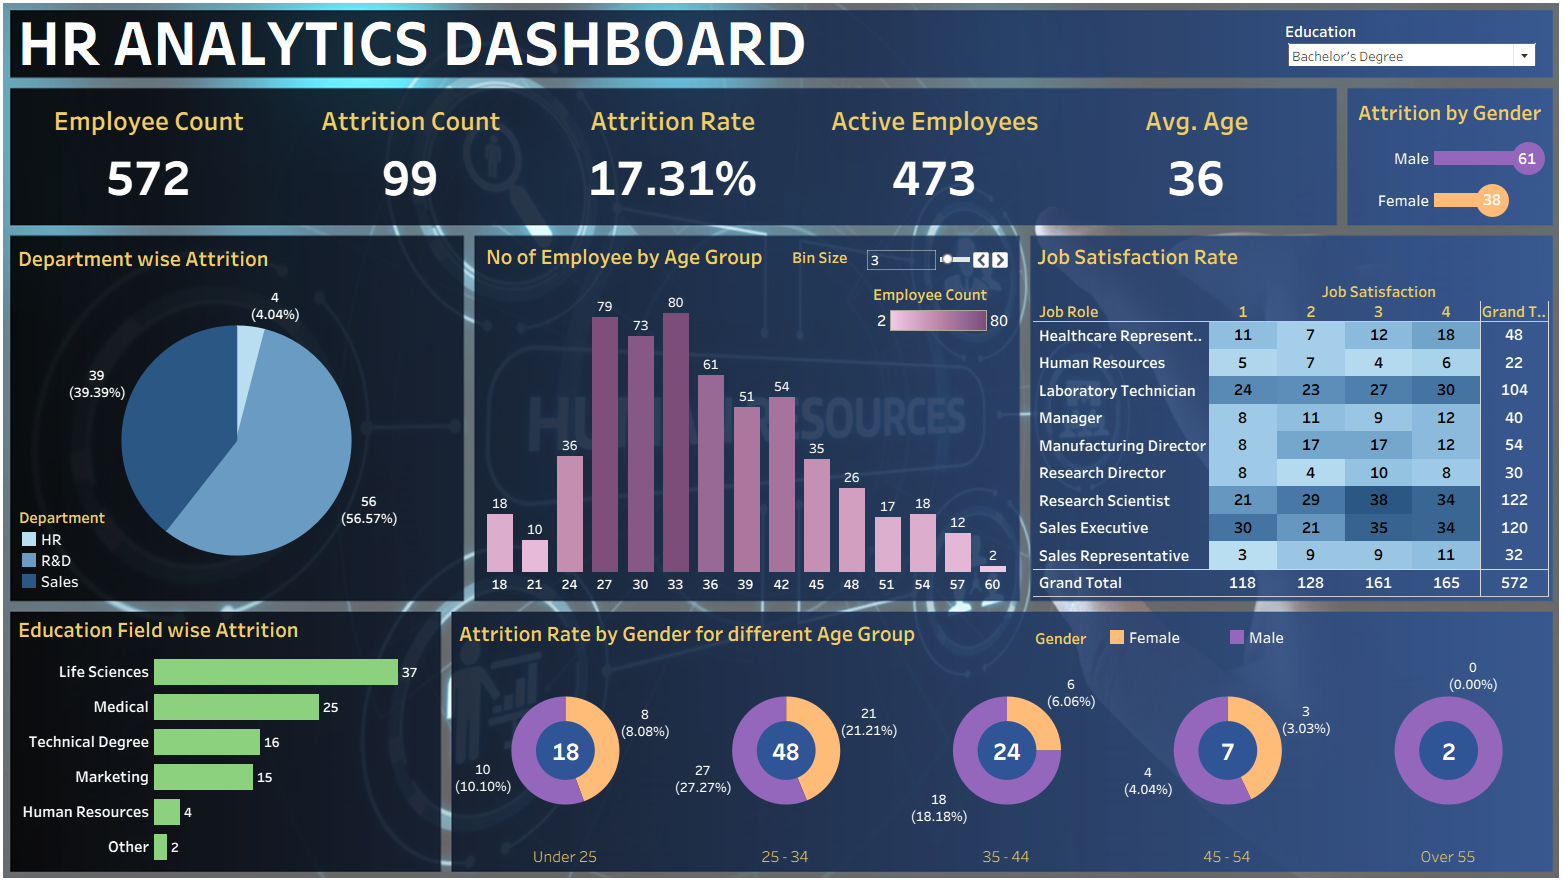

What the dashboard file says about the page in this screenshot:
{"tool":"tableau","page":{"name":"HR ANALYTICS DASHBOARD","canvas":[1580,900],"ordinal":0},"visuals":[{"type":"image","param":"E:/HR_Dashboard/HR background image.png","box":[8,8,1564,884]},{"type":"text","box":[23,14,868,71]},{"type":"filter","title":"Department wise Attrition","param":"[federated.00ndatn1mxd6y218yj76106spz21].[none:Education:nk]","box":[1294,30,254,45]},{"type":"worksheet","title":"Attrition by Gender","mark":"Automatic","rows":["Gender"],"cols":["Calculation_1010234110947328","Calculation_1010234110947328"],"box":[1363,103,196,127]},{"type":"worksheet","title":"KPI","mark":"Automatic","box":[27,106,1310,119]},{"type":"worksheet","title":"No of Employee by Age Group","mark":"Automatic","rows":["Employee Count"],"cols":["Age (bin)"],"box":[491,247,529,356]},{"type":"worksheet","title":"Job Satisfaction Rate","mark":"Square","rows":["Job Role"],"cols":["Job Satisfaction"],"box":[1042,247,516,359]},{"type":"worksheet","title":"Department wise Attrition","mark":"Pie","box":[23,249,445,358]},{"type":"parameter","param":"[Parameters].[Parameter 1]","box":[801,256,219,25]},{"type":"legend","title":"No of Employee by Age Group","param":"[federated.00ndatn1mxd6y218yj76106spz21].[sum:Employee Count:qk]","box":[882,293,140,48]},{"type":"legend","title":"Department wise Attrition","param":"[federated.00ndatn1mxd6y218yj76106spz21].[none:Department:nk]","box":[28,516,99,85]},{"type":"worksheet","title":"Education Field wise Attrition","mark":"Automatic","rows":["Education Field"],"cols":["Calculation_1010234110947328"],"box":[23,620,424,253]},{"type":"worksheet","title":"Attrition Rate by Gender for different Age Group","mark":"Pie","rows":["Calculation_1010234472656905","Calculation_1010234472656905"],"cols":["CF_age band"],"box":[464,624,1104,253]},{"type":"legend","title":"Attrition Rate by Gender for different Age Group","param":"[federated.00ndatn1mxd6y218yj76106spz21].[none:Gender:nk]","box":[1044,636,406,22]}]}

Visuals, with their boxes in screenshot pixels (x1, y1, x2, y2), scaled from the page's 1580x900 canvas onto the 1563x882 screenshot:
image: (x1=8, y1=8, x2=1555, y2=874)
text: (x1=23, y1=14, x2=881, y2=83)
"Department wise Attrition" filter: (x1=1280, y1=29, x2=1531, y2=74)
"Attrition by Gender" worksheet: (x1=1348, y1=101, x2=1542, y2=225)
"KPI" worksheet: (x1=27, y1=104, x2=1323, y2=220)
"No of Employee by Age Group" worksheet: (x1=486, y1=242, x2=1009, y2=591)
"Job Satisfaction Rate" worksheet (Square marks): (x1=1031, y1=242, x2=1541, y2=594)
"Department wise Attrition" worksheet (Pie marks): (x1=23, y1=244, x2=463, y2=595)
parameter: (x1=792, y1=251, x2=1009, y2=275)
"No of Employee by Age Group" legend: (x1=873, y1=287, x2=1011, y2=334)
"Department wise Attrition" legend: (x1=28, y1=506, x2=126, y2=589)
"Education Field wise Attrition" worksheet: (x1=23, y1=608, x2=442, y2=856)
"Attrition Rate by Gender for different Age Group" worksheet (Pie marks): (x1=459, y1=612, x2=1551, y2=859)
"Attrition Rate by Gender for different Age Group" legend: (x1=1033, y1=623, x2=1434, y2=645)
